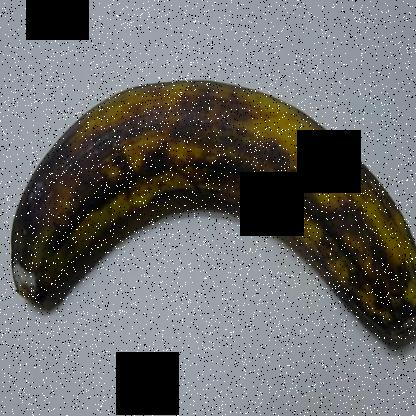overripe: (5, 61, 415, 404)
